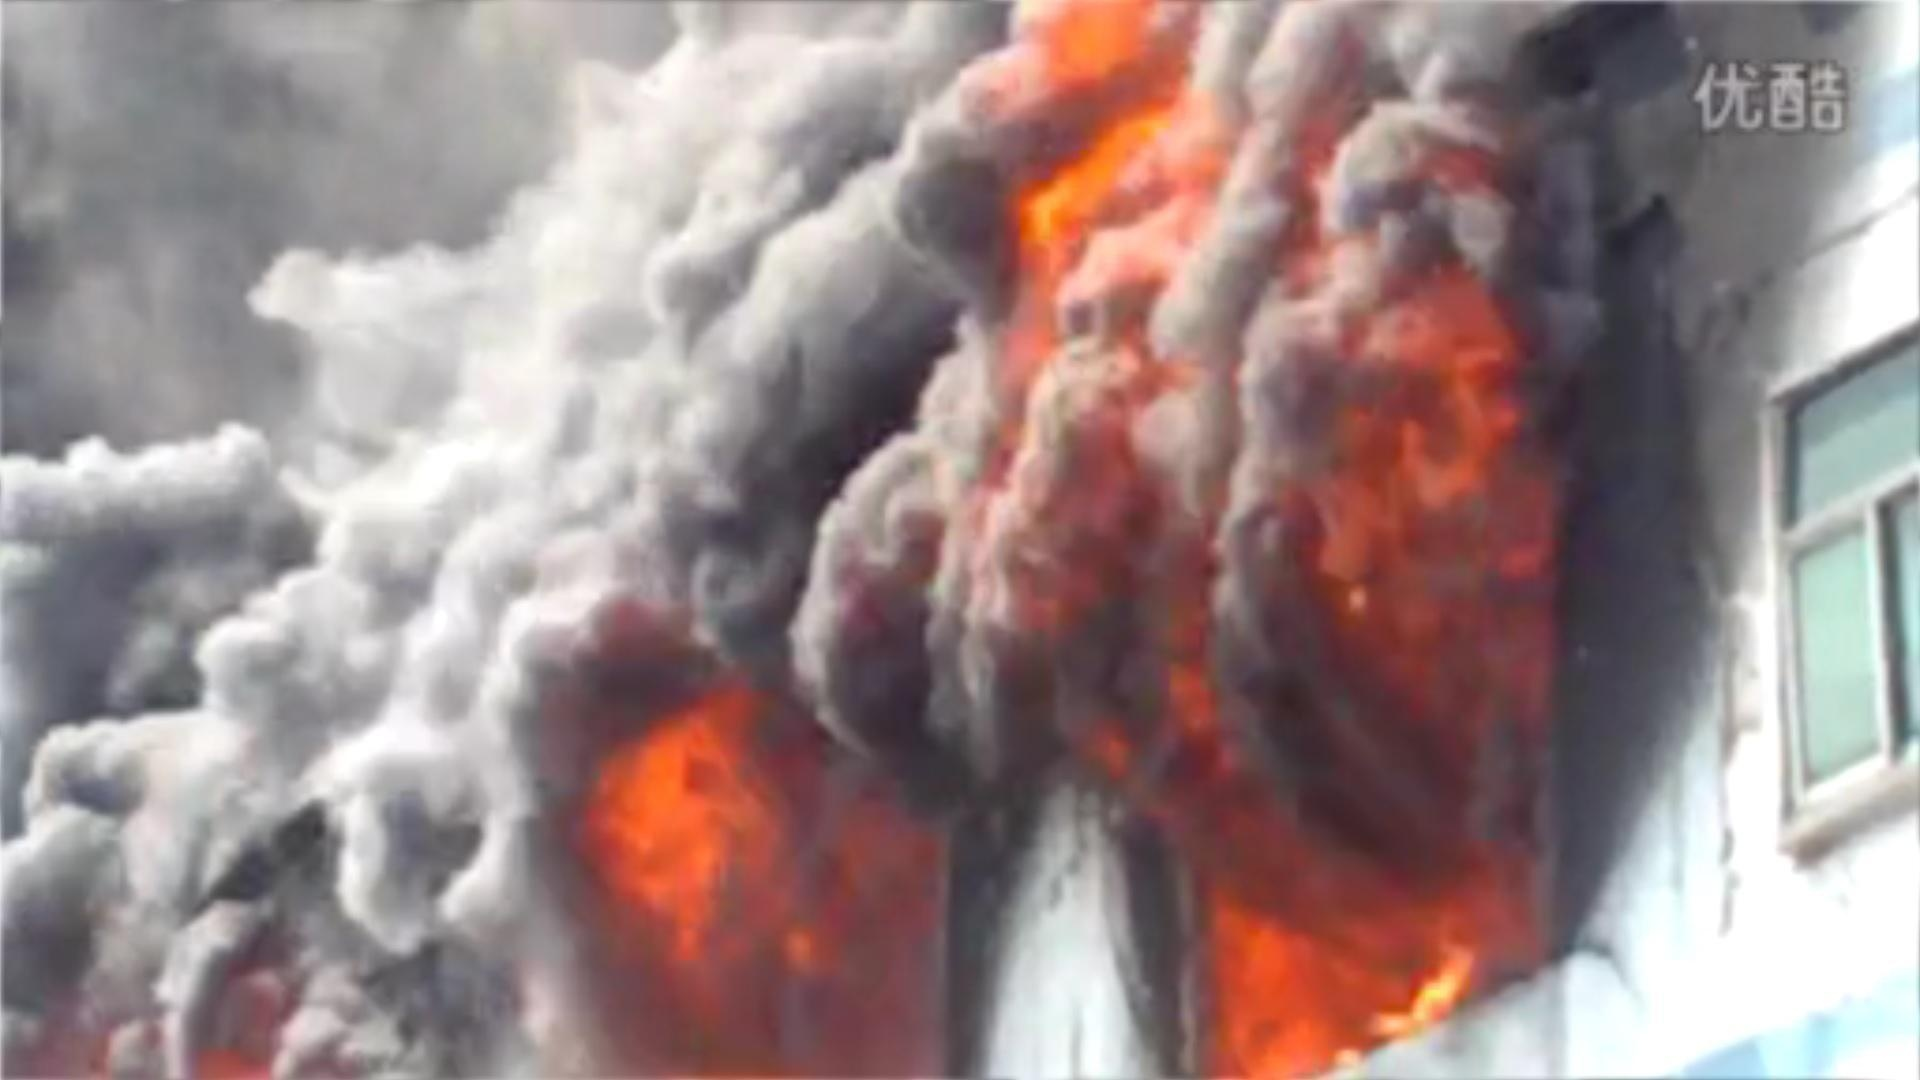fire: (1073, 196, 1573, 1036), (578, 691, 955, 1060)
